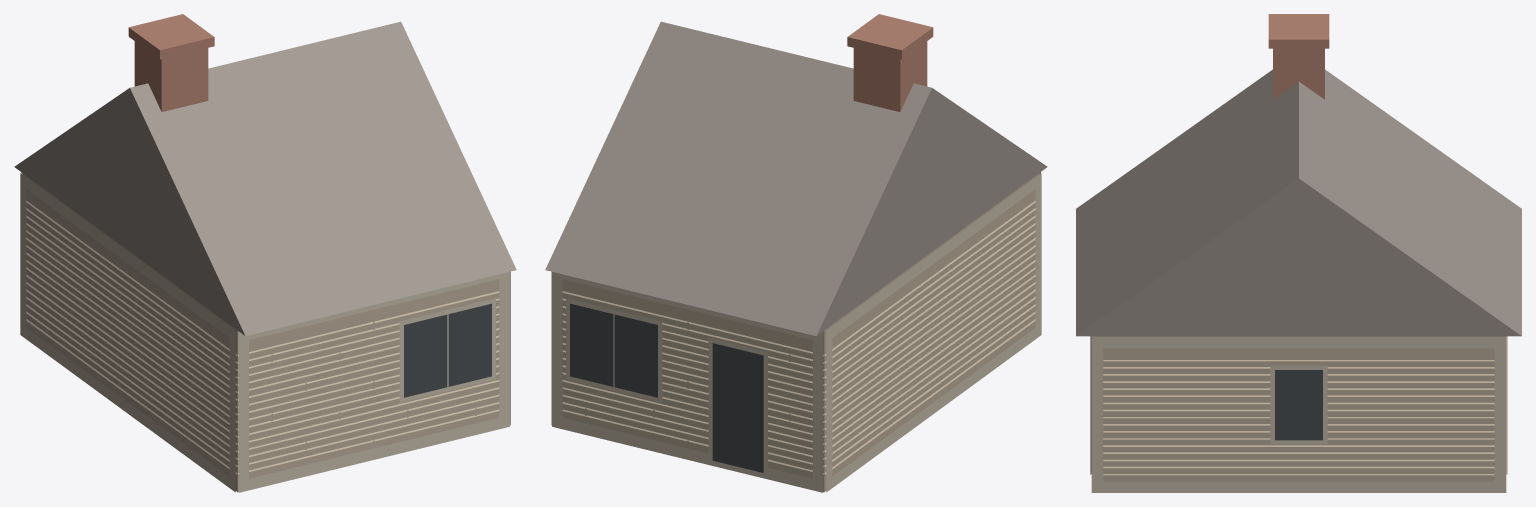
Rendered from inf_artisan_dwelling_west_a__inferred_1835.glb.
3 views of the same model, side by side, from view 1: azimuth 30°, elevation 25°; view 2: azimuth 150°, elevation 25°; view 3: azimuth 270°, elevation 25° (orthographic). The views are drawn at different scales.
Parts seen in each view (by area): view 1: inf_artisan_dwelling_west_a__inferred_1835; view 2: inf_artisan_dwelling_west_a__inferred_1835; view 3: inf_artisan_dwelling_west_a__inferred_1835.
Part boxes in pixels (x1,y1,x2,y2): inf_artisan_dwelling_west_a__inferred_1835: (14, 14, 516, 492); inf_artisan_dwelling_west_a__inferred_1835: (545, 14, 1047, 492); inf_artisan_dwelling_west_a__inferred_1835: (1076, 14, 1521, 492).
Size of the model in its own units: 4.96 by 6.37 by 7.21.
